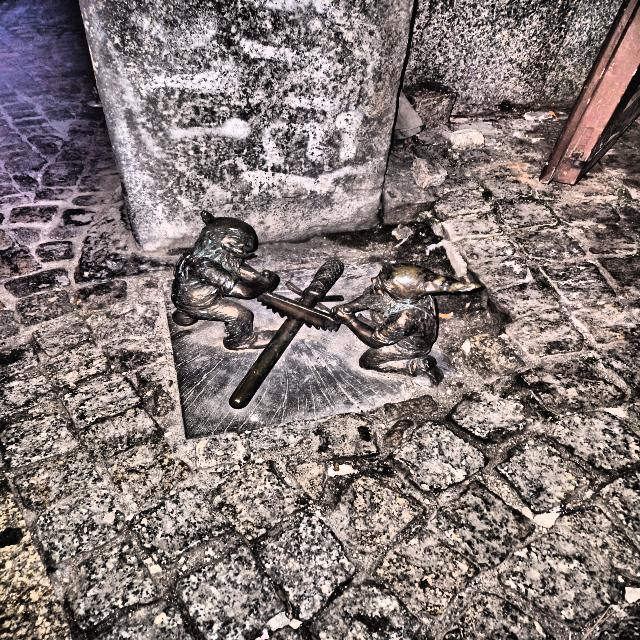Wyrostek i Zadymek: (172, 211, 480, 409)
